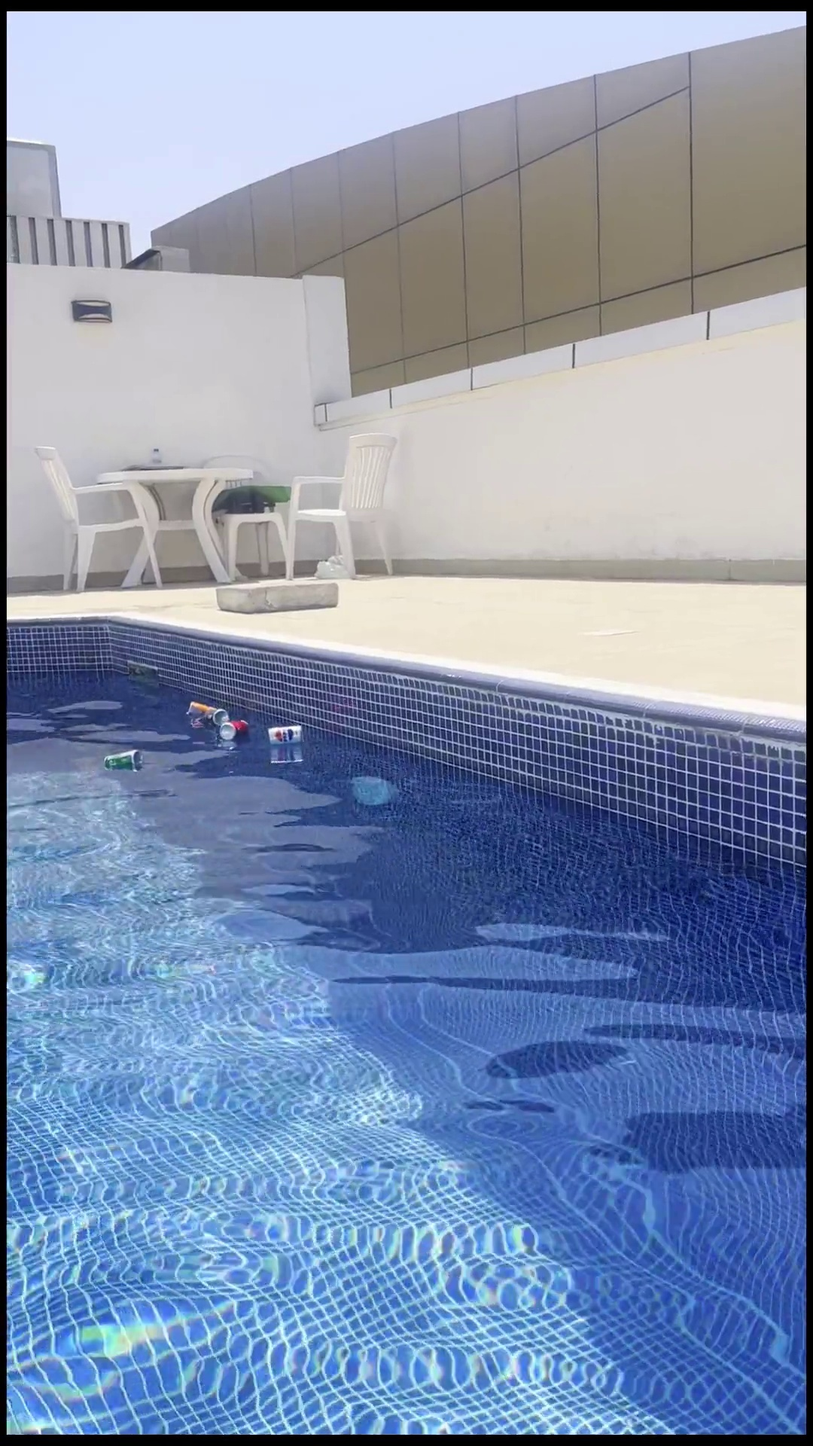debris: (102, 737, 145, 784), (265, 708, 303, 758), (184, 684, 214, 728), (218, 712, 250, 749)
